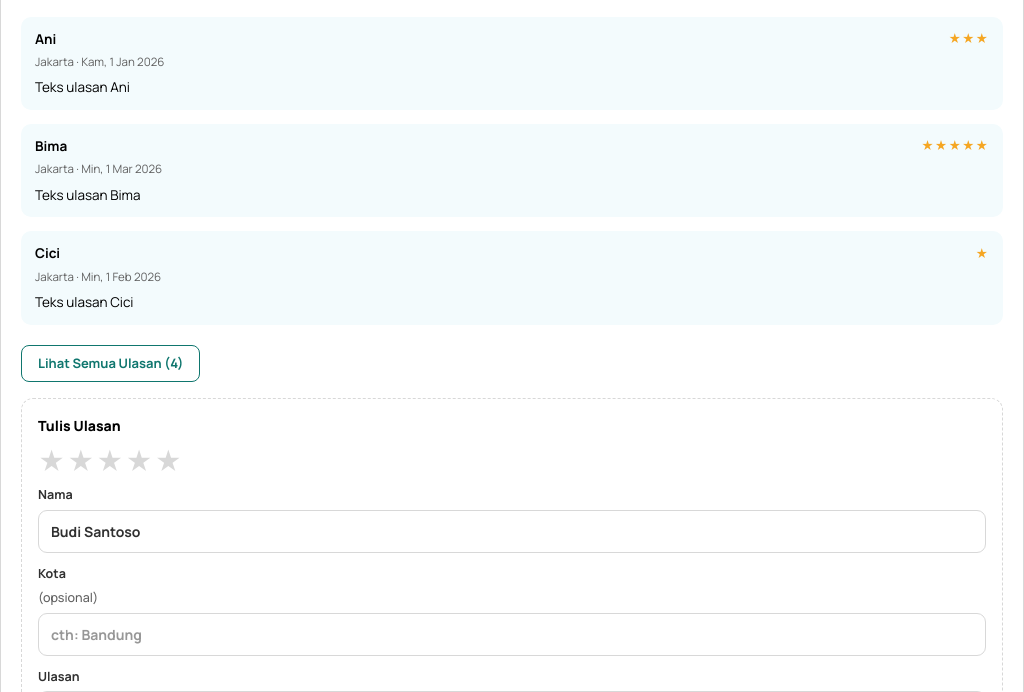
HotelDetailContent (fitur ulasan penginapan) › modal semua ulasan: sortir dan filter per bintang
(page scrolled)
Click the button "Lihat Semua Ulasan (4)": (111, 364) [21,345,200,382]
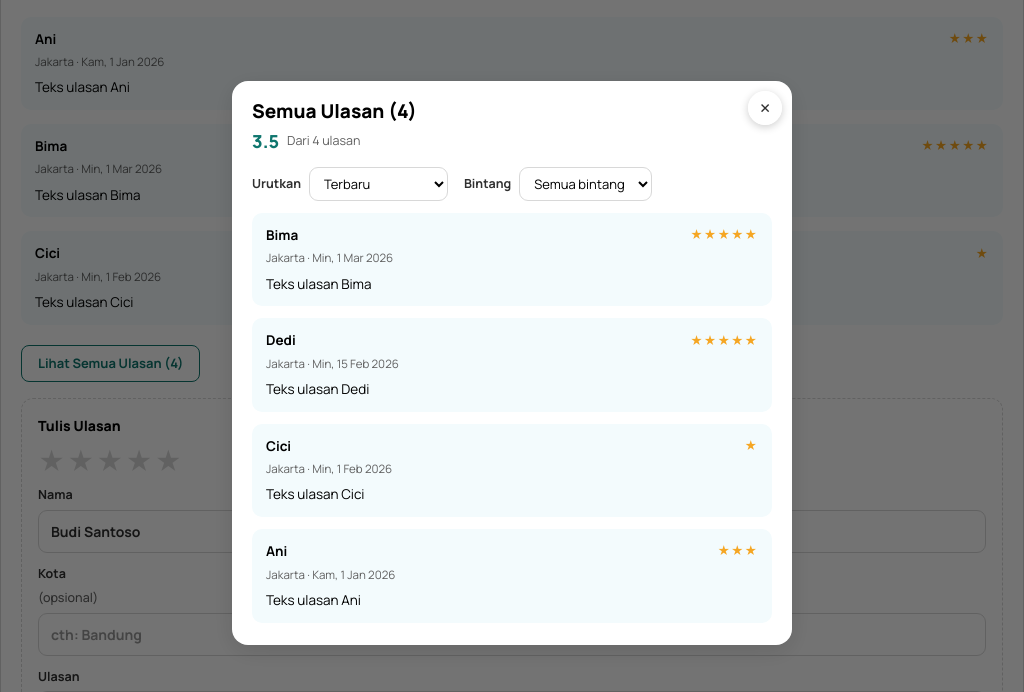
Select "Rating terendah" in the dropdown labelled "Urutkan": (378, 184) [309,167,448,201]
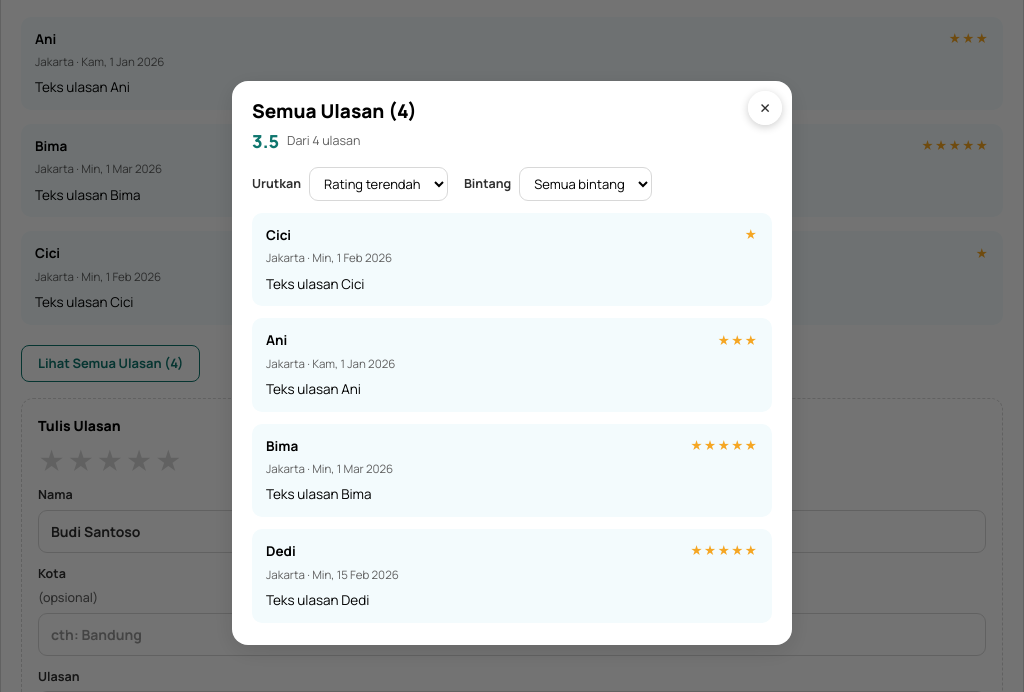
Select "5 bintang" in the dropdown labelled "Bintang": (586, 184) [519,167,652,201]
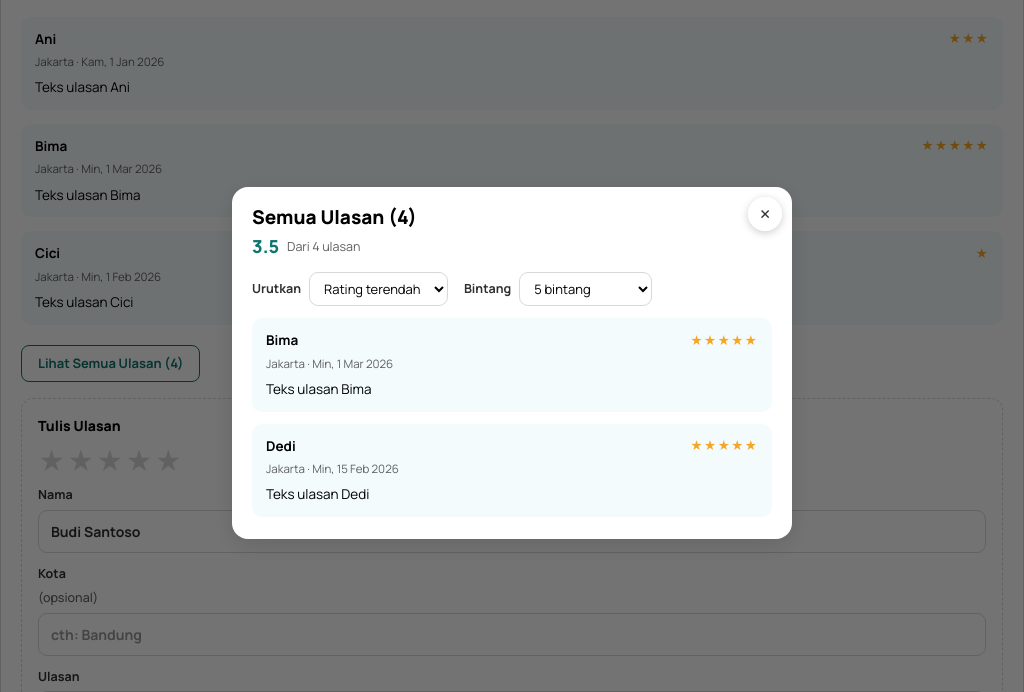
Select "2 bintang" in the dropdown labelled "Bintang": (586, 289) [519,272,652,306]
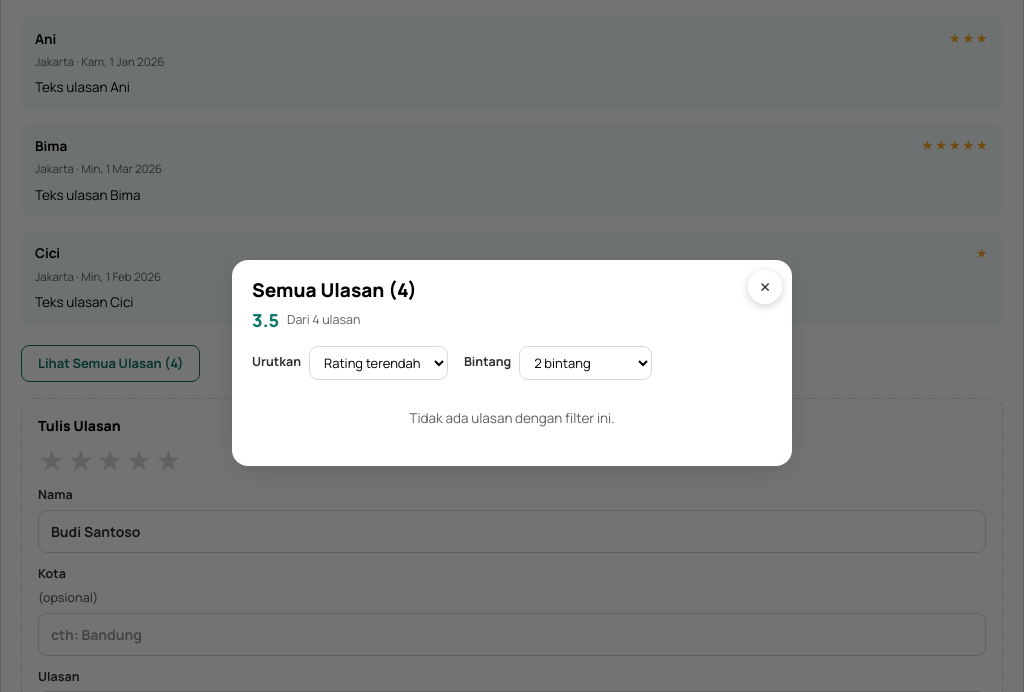
Result: the text "Tidak ada ulasan dengan filter ini." is shown at [409,409,615,427]
